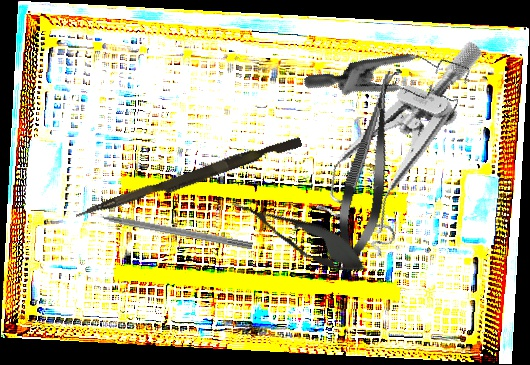Hook Surgical: (82, 207, 254, 251)
Micro Scissor: (329, 66, 410, 267), (224, 185, 374, 285)
Pusher: (74, 130, 303, 228)
Speculum: (307, 11, 485, 266), (302, 4, 485, 170)
